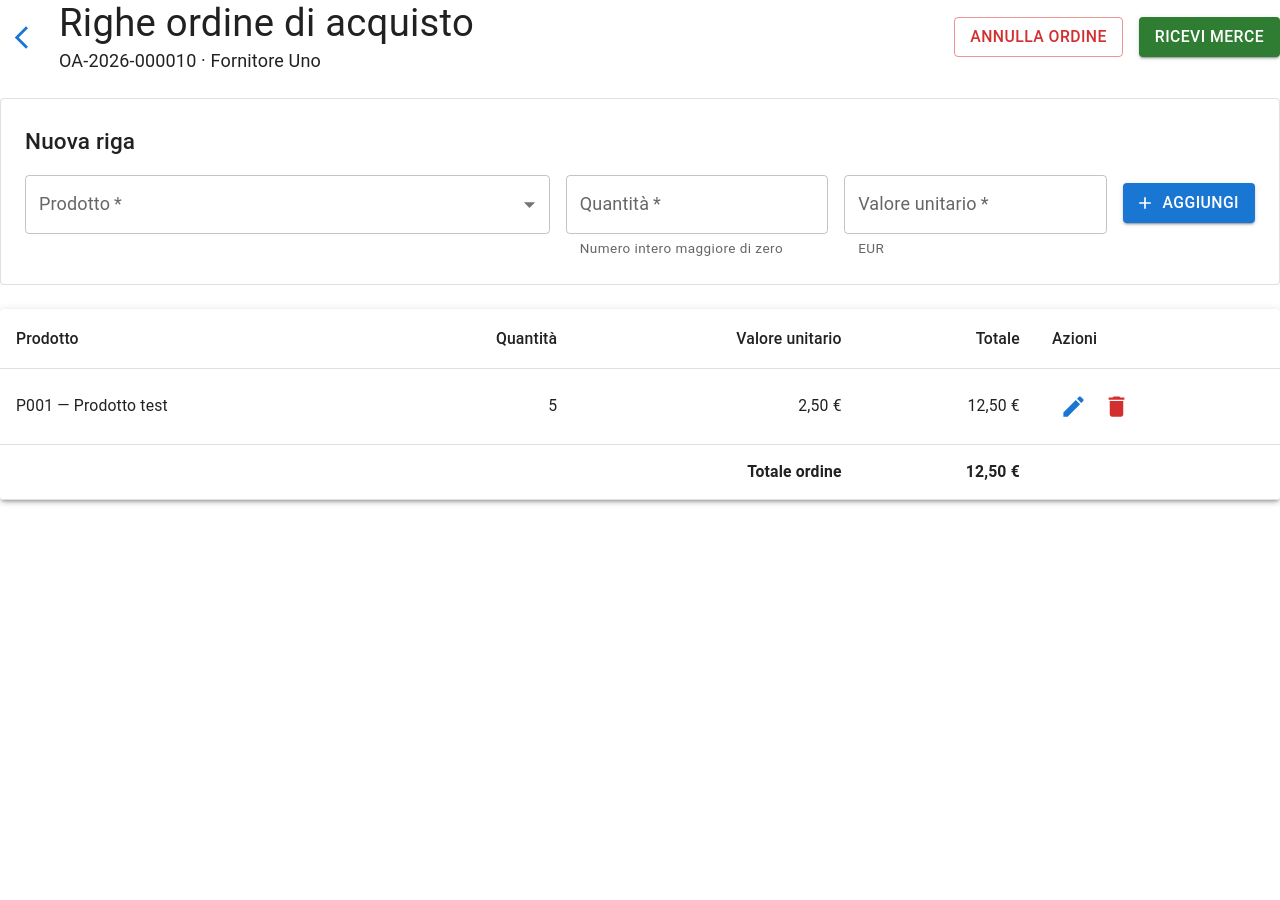
Test: RigheOrdineAcquisto › riceve la merce e informa che la giacenza è stata aggiornata
The image size is (1280, 900).
Click the button "Ricevi merce".
click(1209, 37)  # box [1139,17,1279,57]
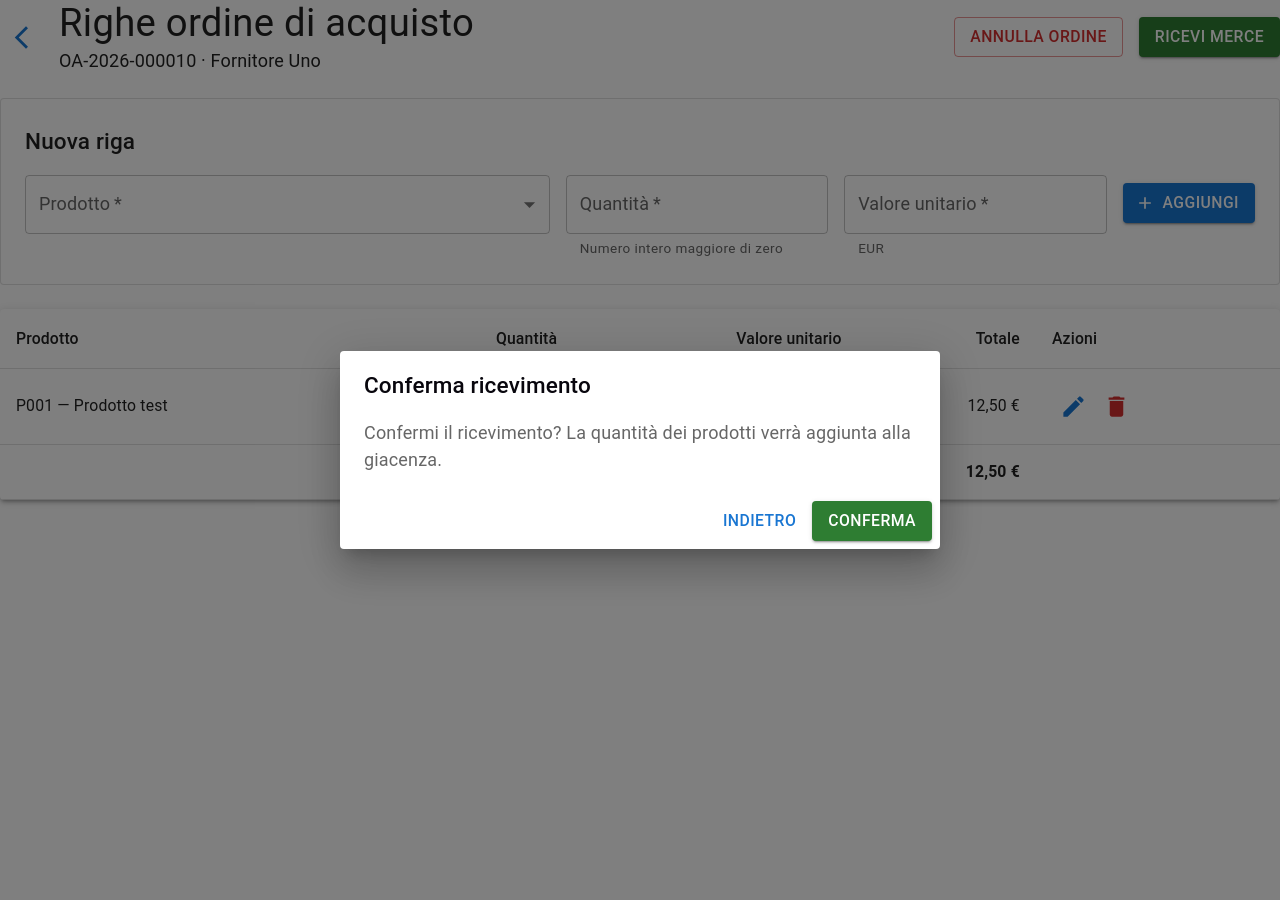
Click the button "Conferma".
click(872, 521)  # box [812,501,932,541]
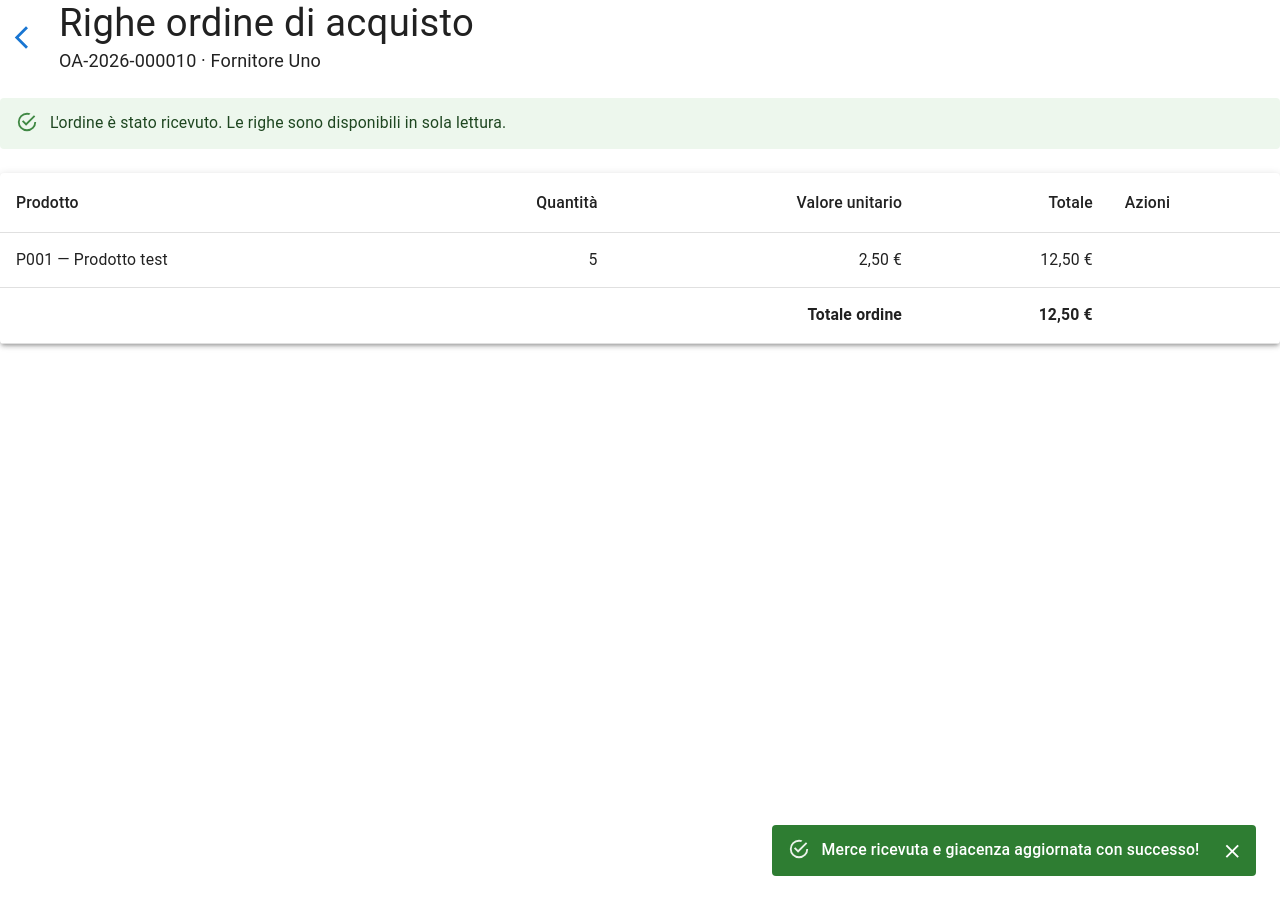
Check: the text "Merce ricevuta e giacenza aggiornata con successo!" is shown, box [822,840,1200,860]
Check: the button "Ricevi merce" is gone
